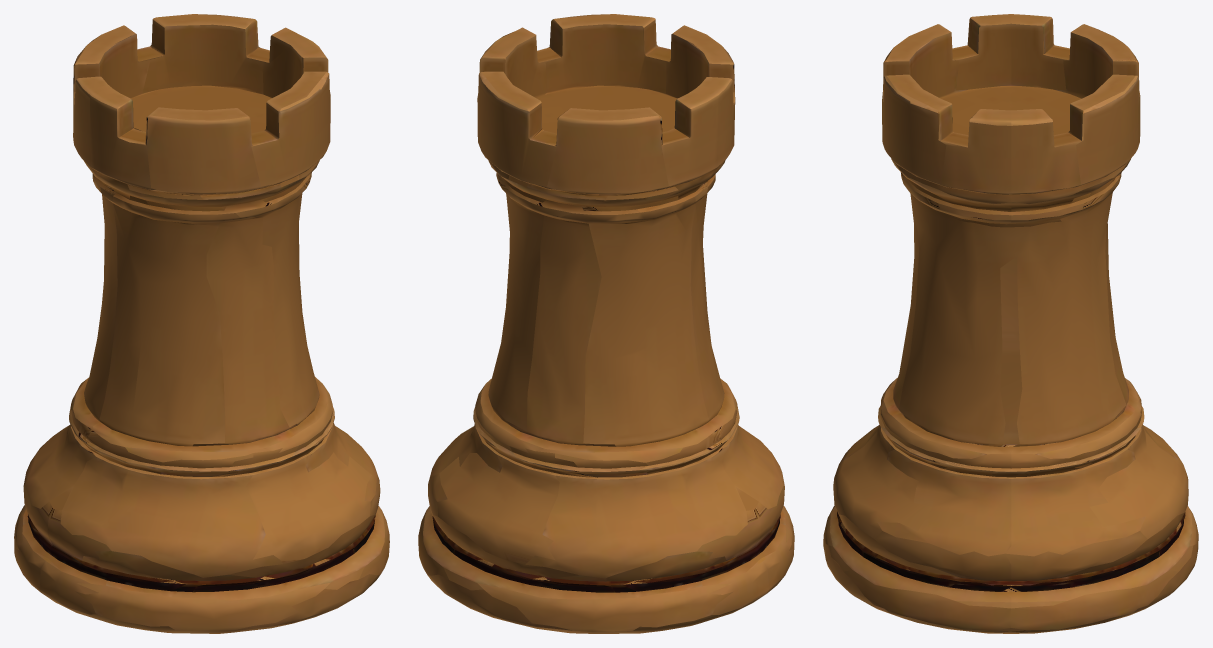
3 views of the same model, side by side, from view 1: azimuth 30°, elevation 25°; view 2: azimuth 150°, elevation 25°; view 3: azimuth 270°, elevation 25° (orthographic).
Visible parts, largest first — view 1: geometry_0; view 2: geometry_0; view 3: geometry_0.
Boxes of the visible parts, x1=… form: geometry_0: x1=14, y1=14, x2=389, y2=633; geometry_0: x1=418, y1=14, x2=794, y2=633; geometry_0: x1=823, y1=14, x2=1198, y2=633.
Size of the model in its own units: 0.6897 by 1 by 0.69.
1 material, 1 textured.
